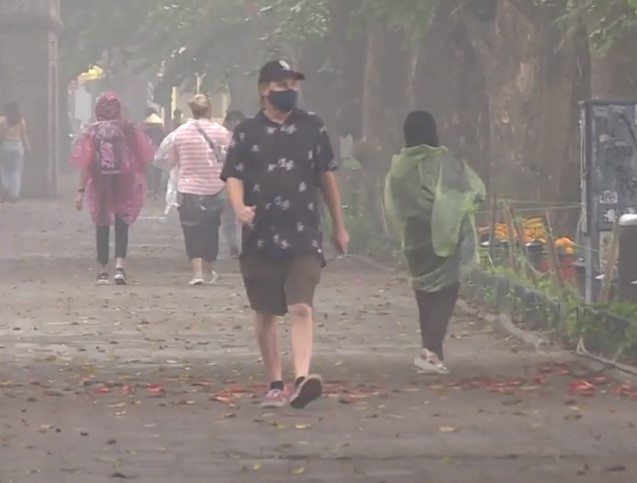face_with_mask: (257, 62, 306, 115)
